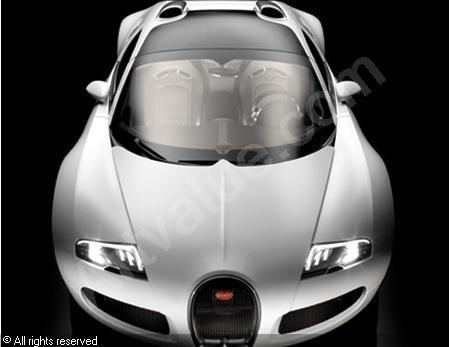Car: (36, 1, 420, 347)
